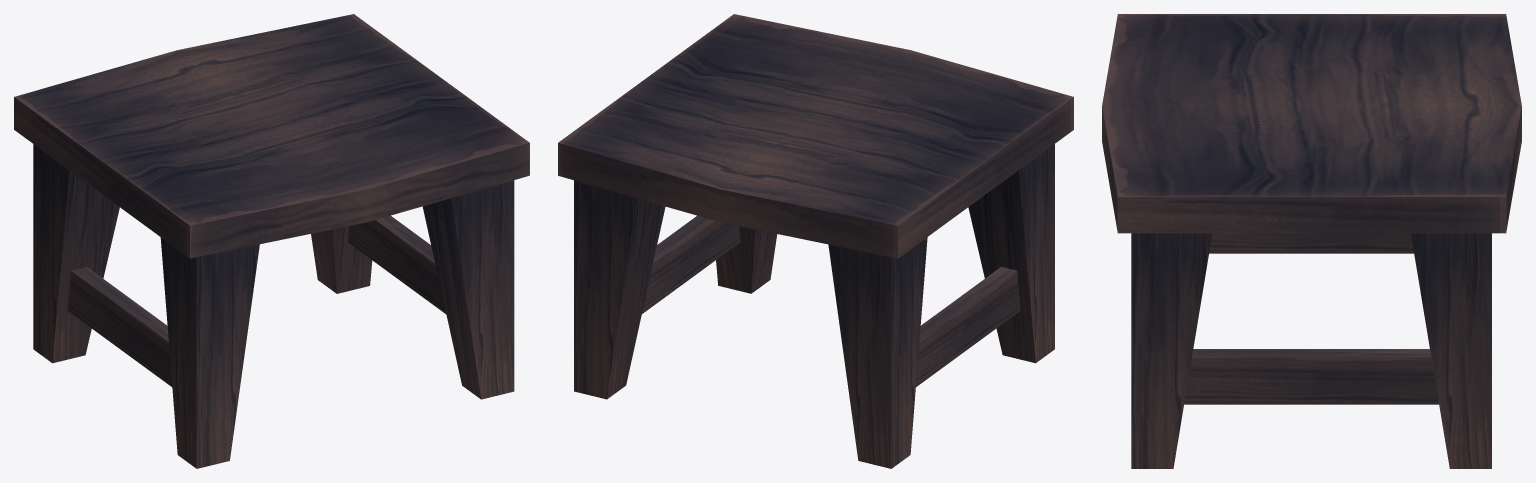
Rendered from Table_A_1x1.fbx.
The picture shows the model from 3 angles, left to right: view 1: azimuth 30°, elevation 25°; view 2: azimuth 150°, elevation 25°; view 3: azimuth 270°, elevation 25°; orthographic projection. The views are drawn at different scales.
Parts seen in each view (by area): view 1: Table_A_1x1; view 2: Table_A_1x1; view 3: Table_A_1x1.
Part boxes in pixels (x1,y1,x2,y2): Table_A_1x1: [14, 14, 529, 468]; Table_A_1x1: [558, 14, 1073, 468]; Table_A_1x1: [1102, 14, 1521, 468].
Bounding box in the file's own units: 0.3133 × 0.2211 × 0.3036.
